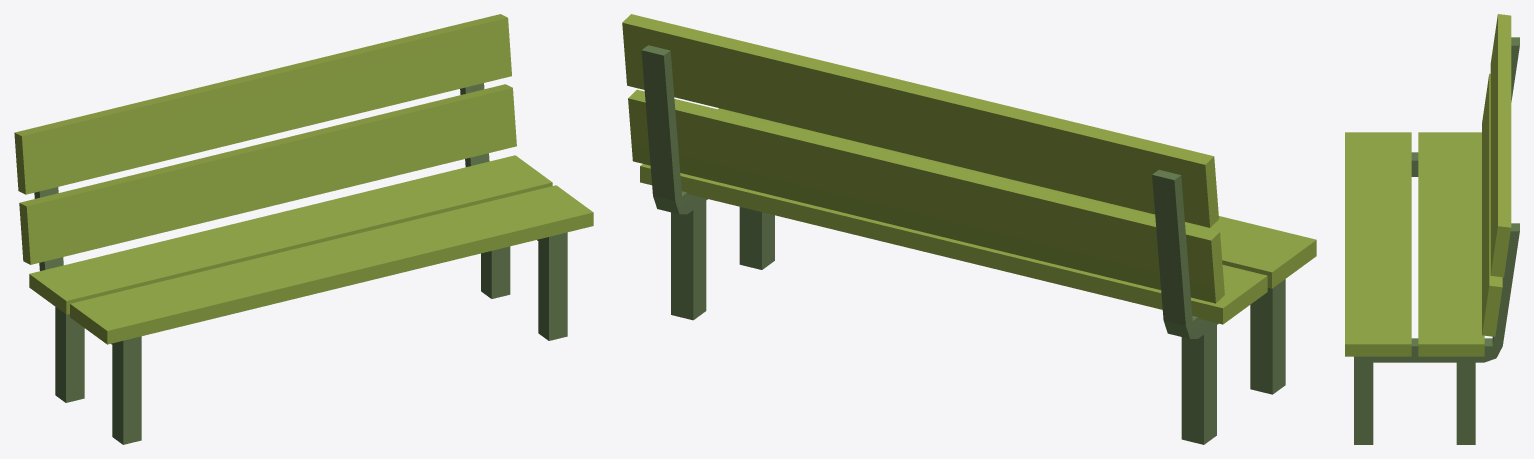
File: Bench_01.fbx
3 renders of one model, left to right at view 1: azimuth 30°, elevation 25°; view 2: azimuth 150°, elevation 25°; view 3: azimuth 270°, elevation 25°, orthographic. The views are drawn at different scales.
Visible parts, largest first — view 1: Bench_01; view 2: Bench_01; view 3: Bench_01.
Part boxes in pixels (x1,y1,x2,y2): Bench_01: (14, 14, 593, 444); Bench_01: (622, 14, 1316, 444); Bench_01: (1345, 14, 1519, 444).
Size of the model in its own units: 1.93 by 0.9691 by 0.6739.
